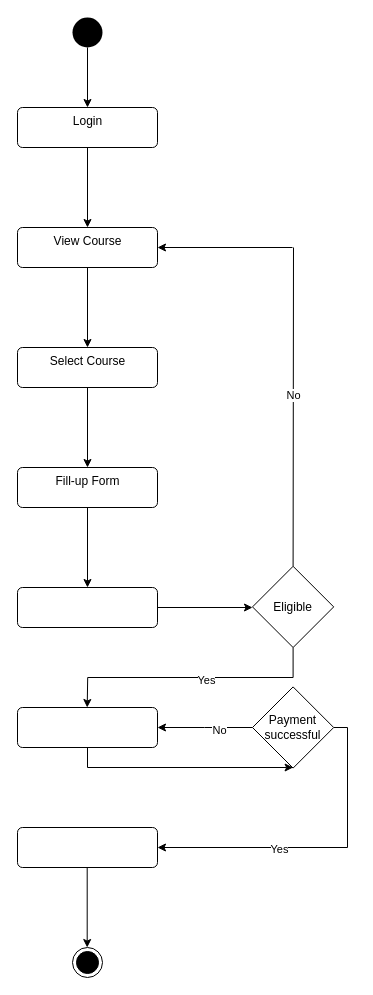
Some shapes in this 373 by 995 pixel diagram are drawn without their labels. The shapes that lost their labels are listed below. From the top down, each one's box as (x1, y1, x2, y2) in pixels, then its label:
(16, 586, 158, 628): Eligibility Check
(16, 706, 158, 748): Payment
(16, 826, 158, 868): Start Learning
